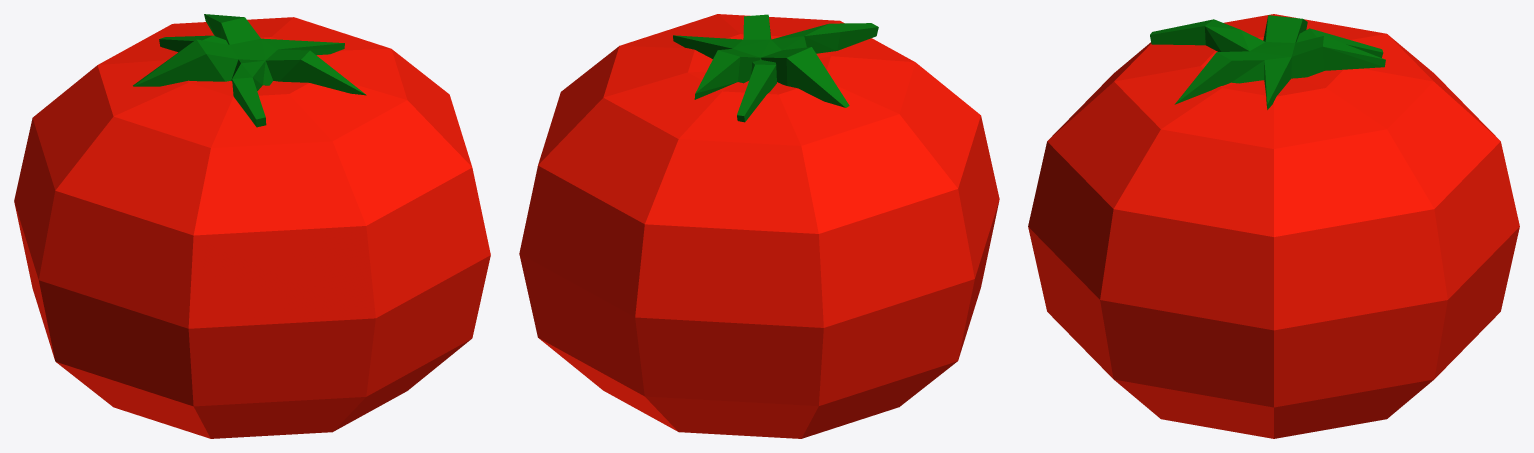
File: tomato.fbx
3 renders of one model, left to right at view 1: azimuth 30°, elevation 25°; view 2: azimuth 150°, elevation 25°; view 3: azimuth 270°, elevation 25°, orthographic.
Visible parts, largest first — view 1: Tomato; view 2: Tomato; view 3: Tomato.
Part boxes in pixels (x1,y1,x2,y2): Tomato: [14, 14, 490, 438]; Tomato: [519, 14, 999, 438]; Tomato: [1028, 14, 1519, 438].
Size of the model in its own units: 157 by 123 by 157.
